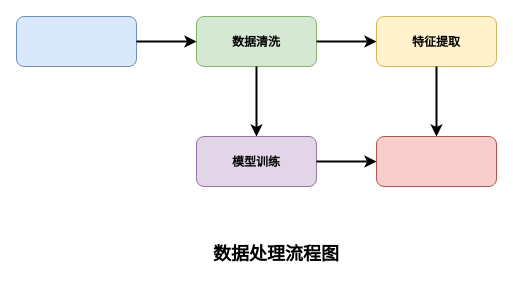
Some shapes in this 513 by 283 pixel diagram are drawn without their labels. The shapes that lost their labels are listed below. From the top down, each one's centre as x and y in pixels, then its label:
(x=76, y=41): 数据采集
(x=436, y=161): 结果输出
